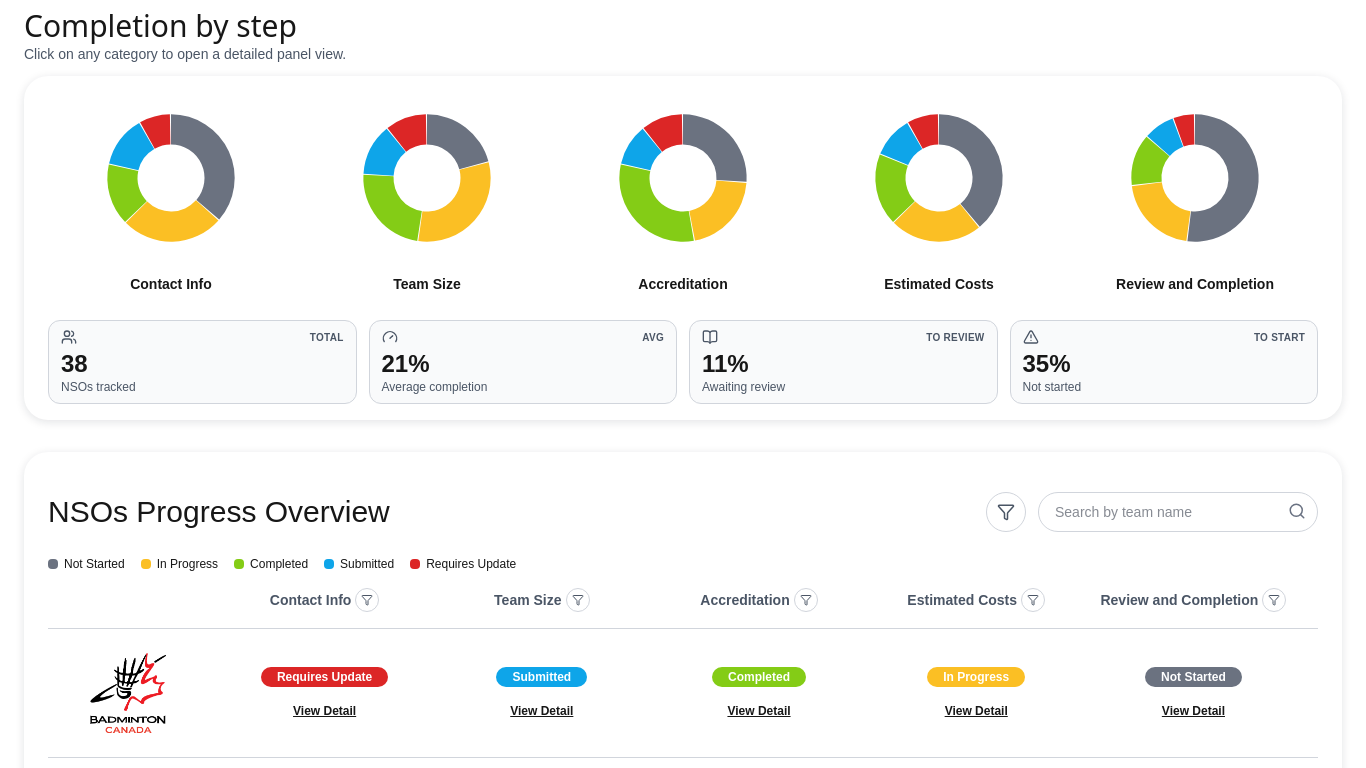
Test: Dashboard page › closes the status overview panel
The image size is (1366, 768).
Click the button "Contact Info": (171,202) [83, 92, 259, 312]
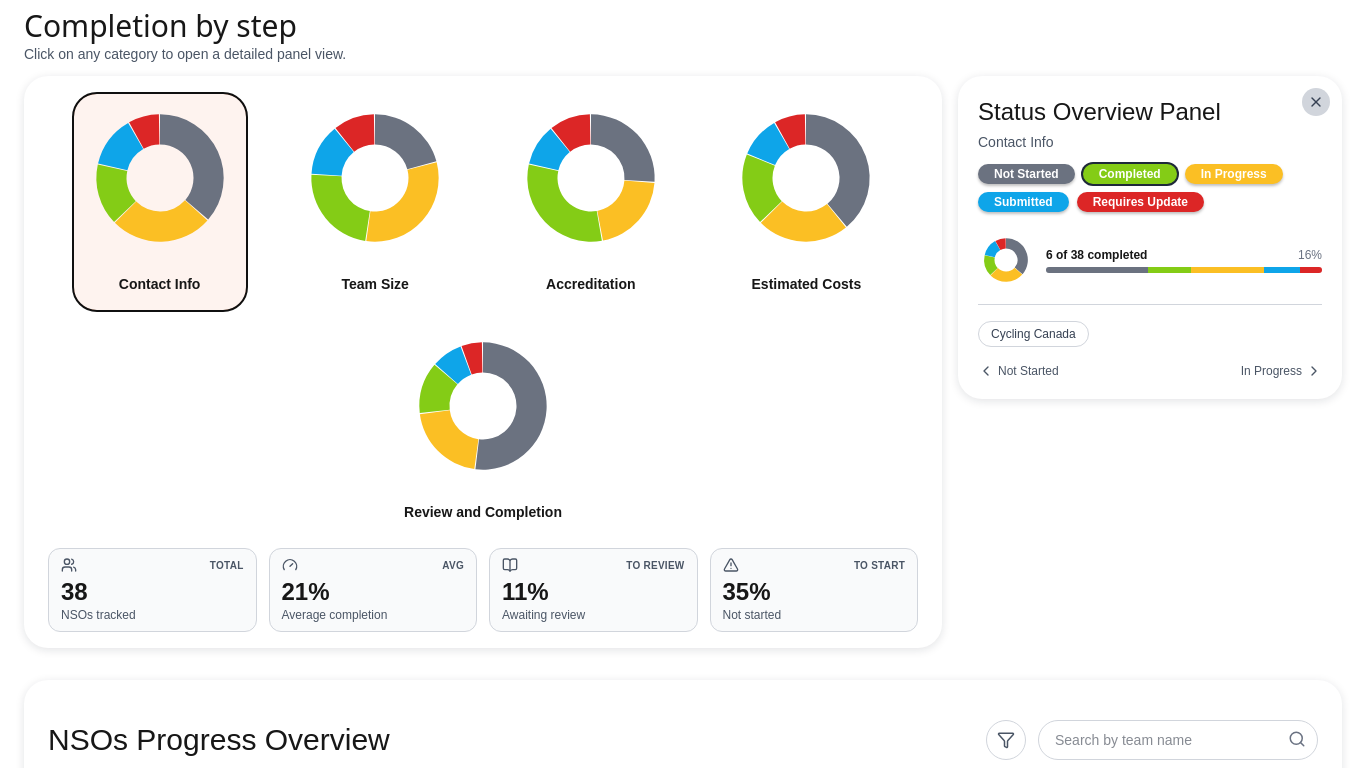
Click the button named "Close panel": (1316,102) [1302, 88, 1330, 116]
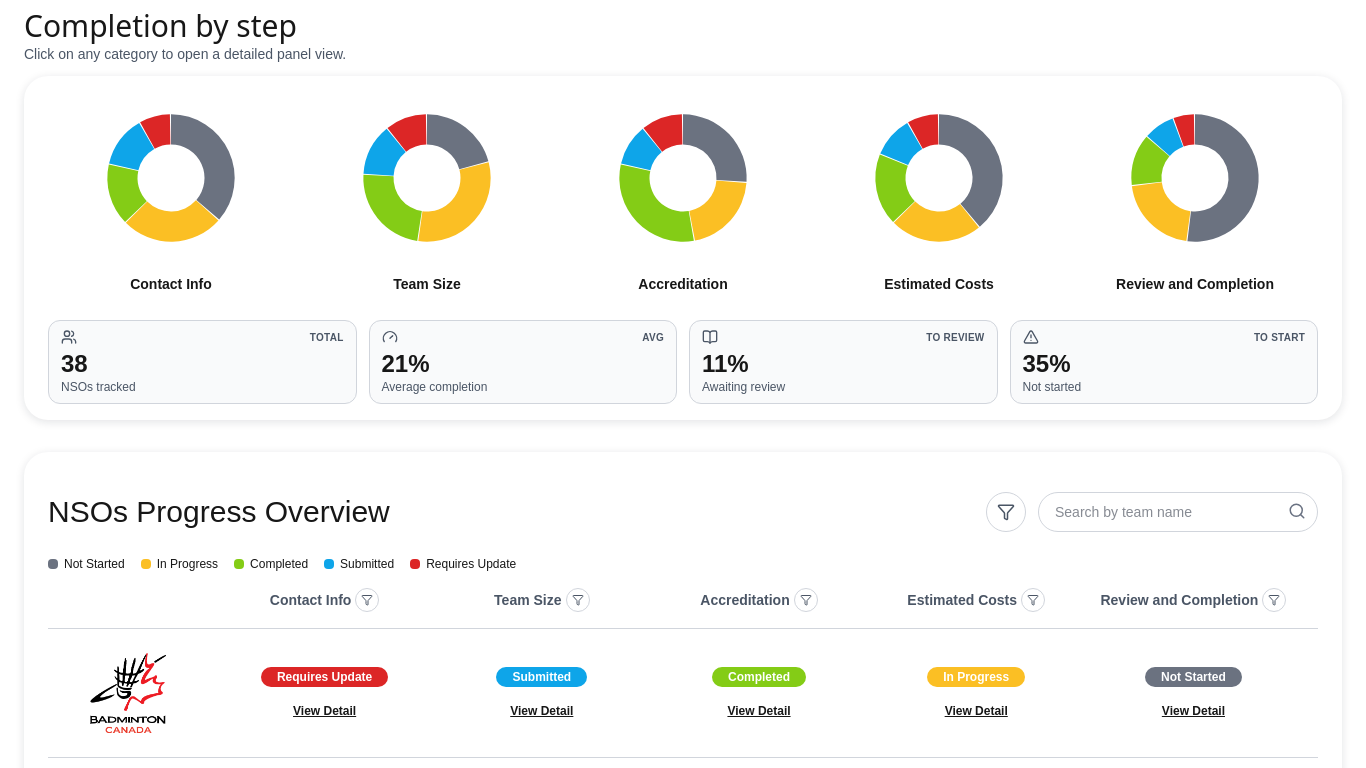
Expected: the heading labelled "Status Overview Panel" is gone
